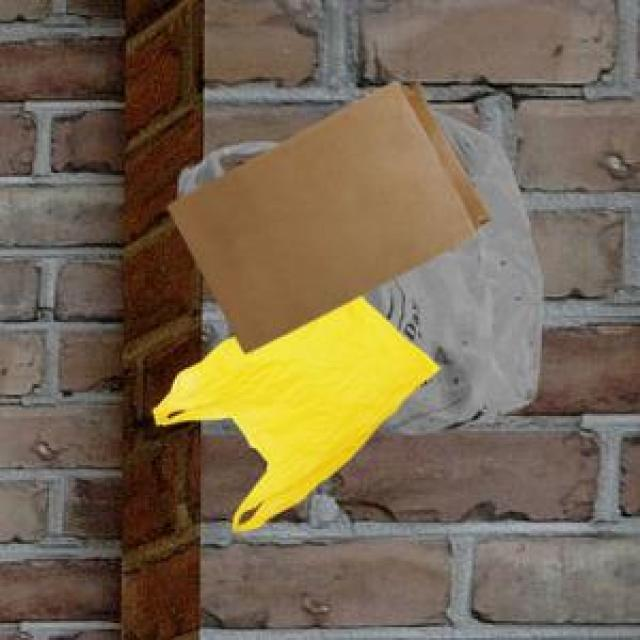paper: (164, 77, 489, 350)
